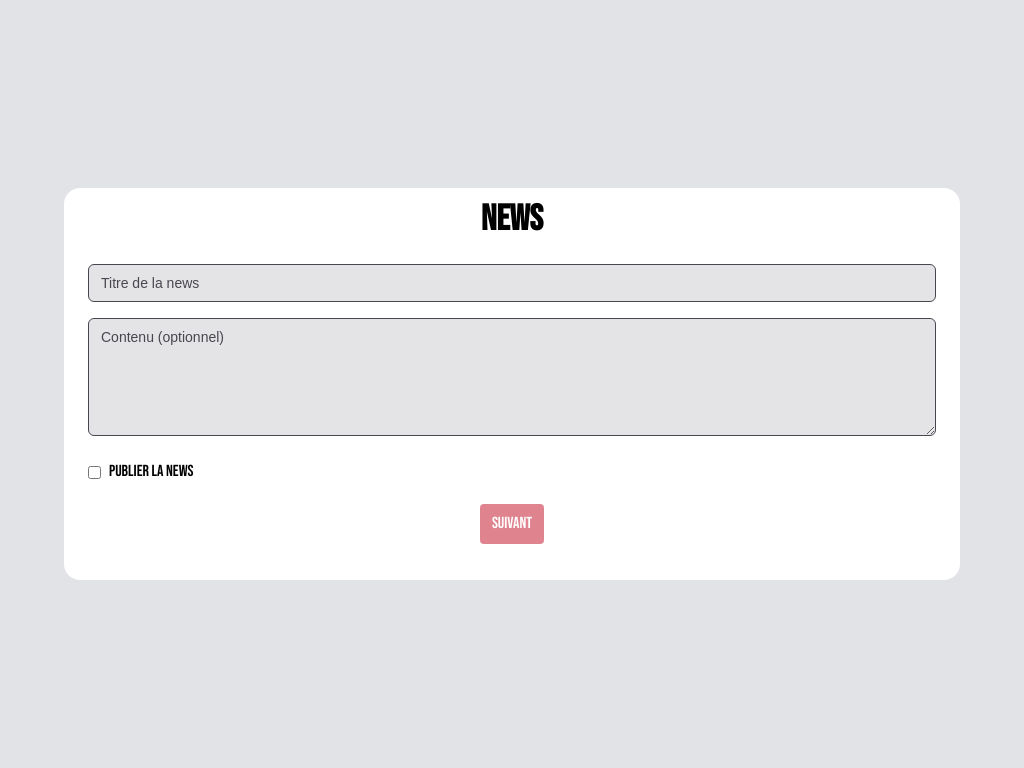
Test case: AddNewsModal › affiche l'erreur retournee par l'API sur l'etape 2
Step 1. Type "Ma news" into the field with placeholder "Titre de la news" → (512, 283), box left=88, top=264, right=936, bottom=302
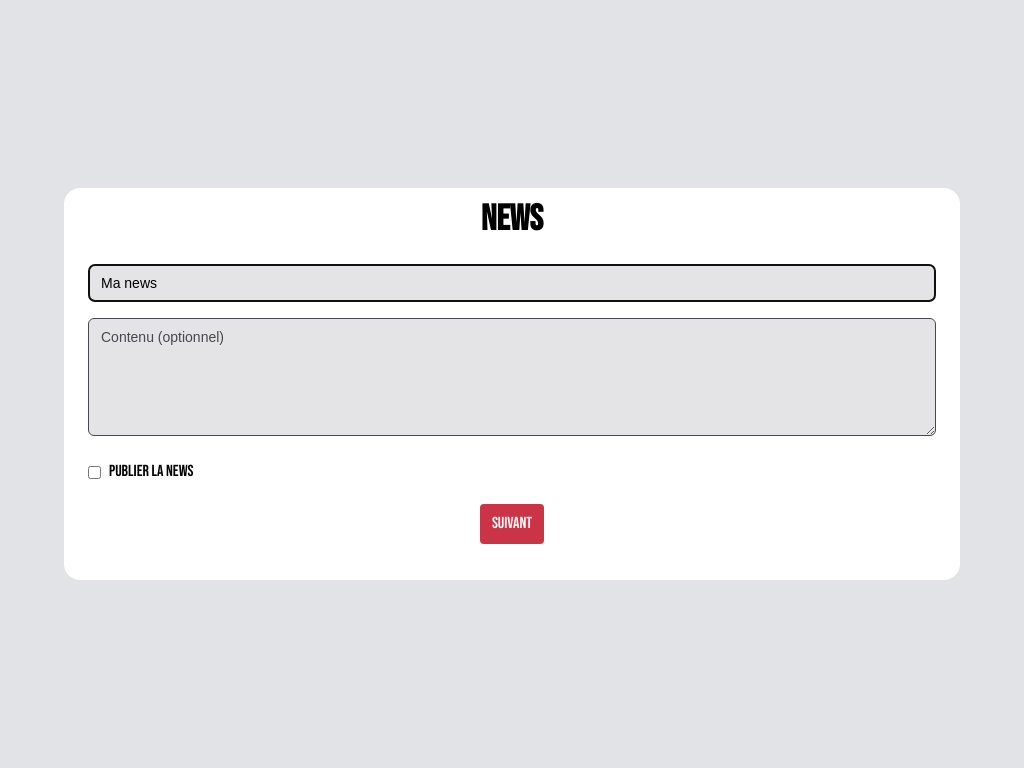
Step 2. Click the button "Suivant" → (512, 524), box left=480, top=504, right=544, bottom=544
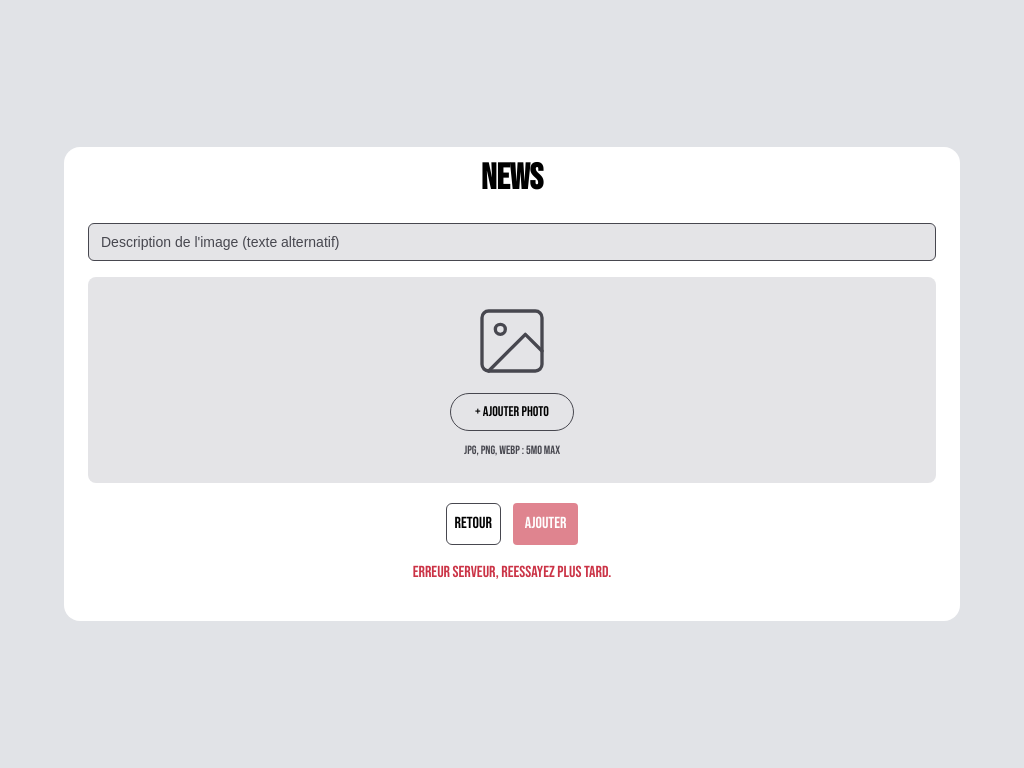
Now the text "Erreur serveur, reessayez plus tard." is shown, box left=413, top=563, right=611, bottom=582
